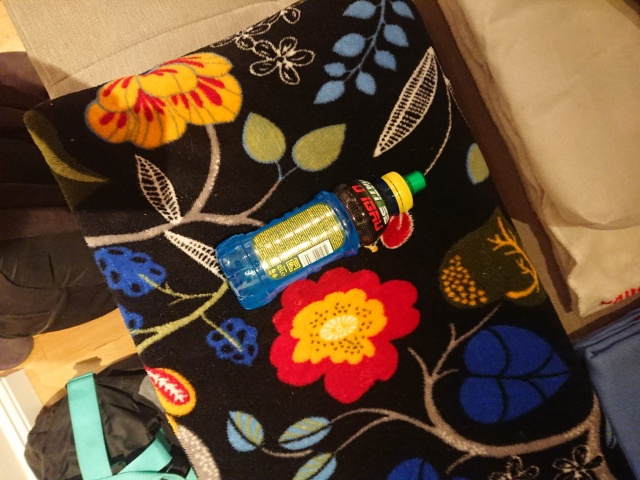Vindi Iso Sport Forest Strawberries 500mL: (212, 168, 428, 313)
